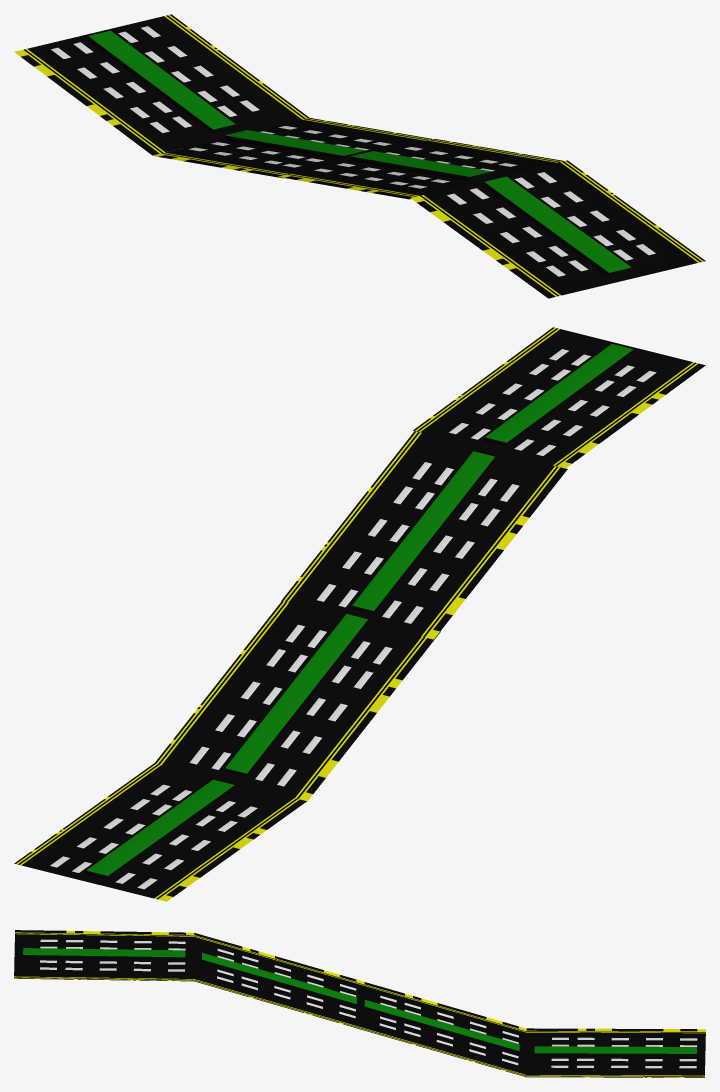
The model's file is road_1(elevated).fbx.
3 views of the same model, one above another, from view 1: azimuth 30°, elevation 25°; view 2: azimuth 150°, elevation 25°; view 3: azimuth 270°, elevation 25° (orthographic). The views are drawn at different scales.
Visible parts, largest first — view 1: Plane.003, Plane.004, Plane.002, Plane.001; view 2: Plane.002, Plane.001, Plane.004, Plane.003; view 3: Plane.003, Plane.004, Plane.002, Plane.001.
Boxes of the visible parts, x1,y1,x2,y2 form: Plane.003: (14, 14, 309, 155); Plane.004: (410, 160, 705, 298); Plane.002: (278, 139, 563, 199); Plane.001: (152, 118, 432, 178); Plane.002: (281, 431, 567, 639); Plane.001: (154, 601, 440, 802); Plane.004: (413, 327, 705, 468); Plane.003: (14, 763, 306, 901); Plane.003: (525, 1028, 705, 1077); Plane.004: (14, 930, 194, 981); Plane.002: (193, 933, 364, 1029); Plane.001: (363, 982, 526, 1076).
Size of the model in its own units: 2294 by 2099 by 13142.
